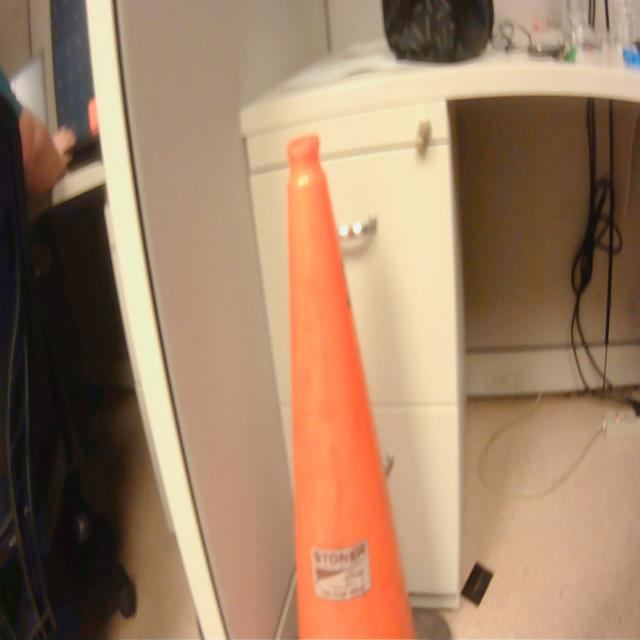traffic cone: (273, 130, 465, 640)
